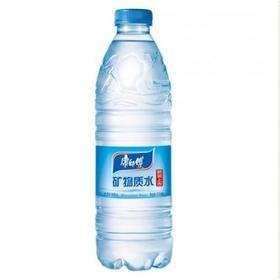amwater: (73, 1, 186, 276)
